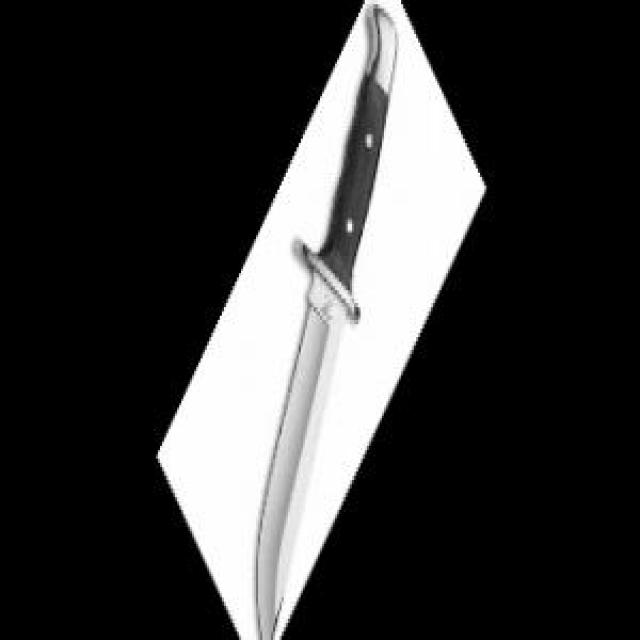knife: (250, 2, 401, 638)
